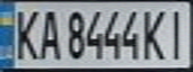4: (84, 6, 106, 61), (103, 6, 124, 61), (121, 6, 142, 61)
8: (63, 6, 87, 61)
A: (33, 6, 63, 61)
I: (163, 6, 193, 61)
K: (9, 4, 42, 61), (139, 6, 169, 61)
